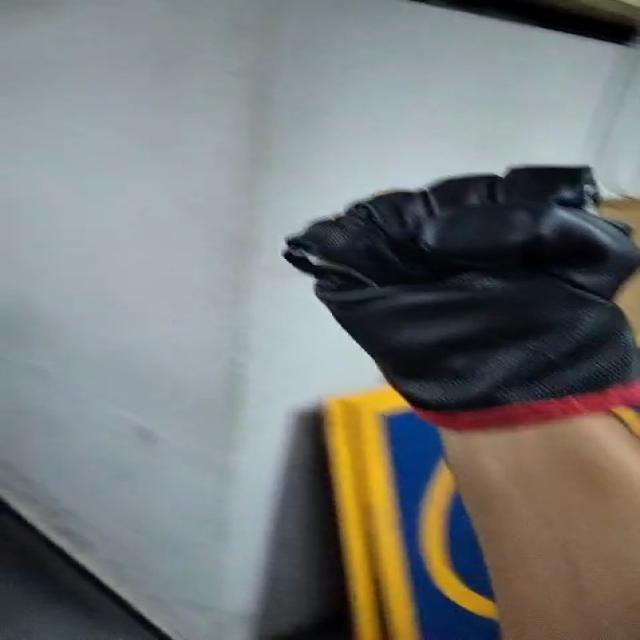Gloves: (279, 164, 640, 430)
